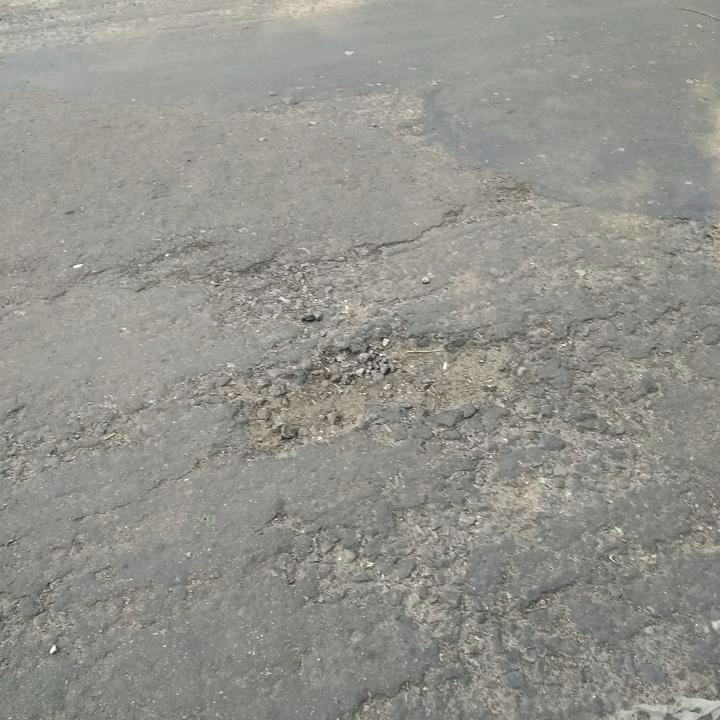pothole: (233, 325, 524, 462), (235, 242, 376, 324)
